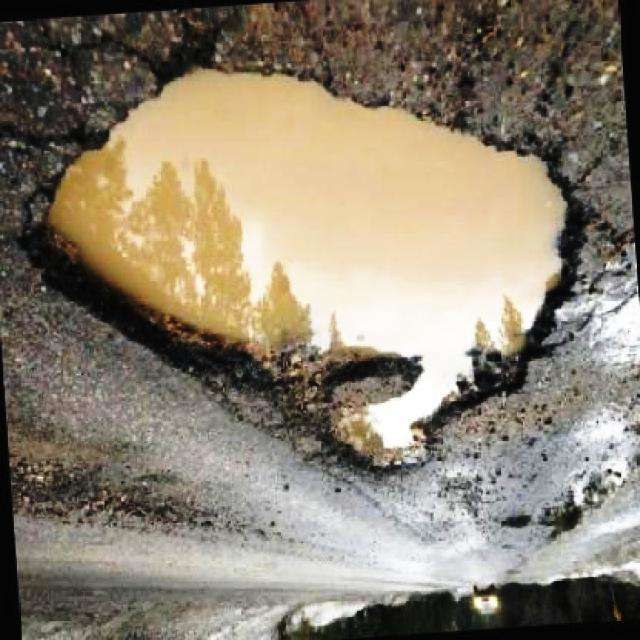pothole: (19, 42, 586, 483), (540, 471, 626, 543)
